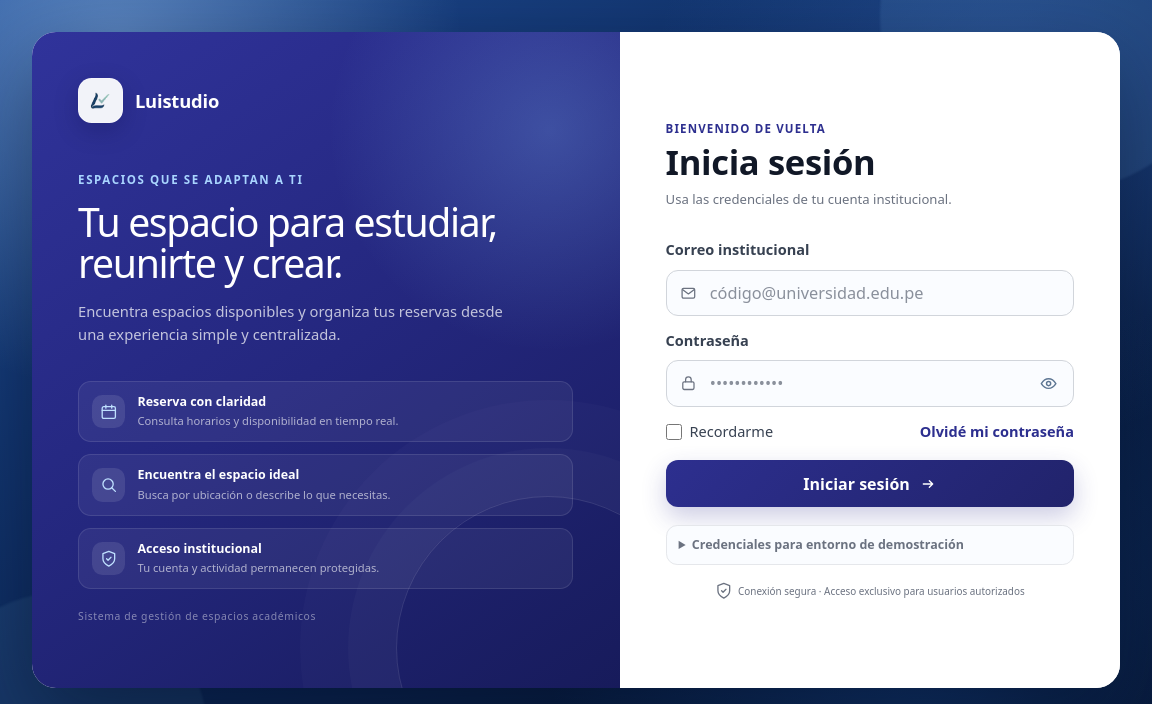
Test: Vista crítica: Vista administrativa principal (Reservas registradas) › renderiza el listado de reservas administrativo con datos simulados vía HTTP mockeado
Type "20233916@aloe.ulima.edu.pe" into the field labelled "Correo institucional" at (870, 293), box [666,270,1074,316]
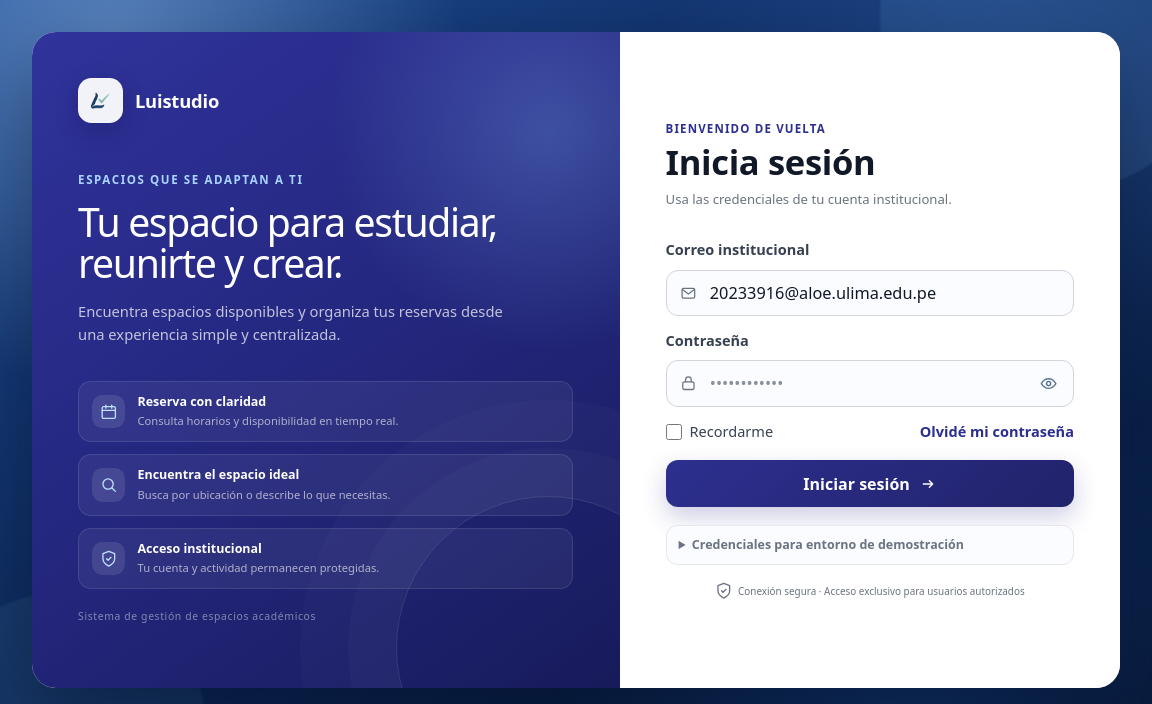
Type "Admin123!" into the password field labelled "Contraseña" at (870, 384), box [666,360,1074,407]
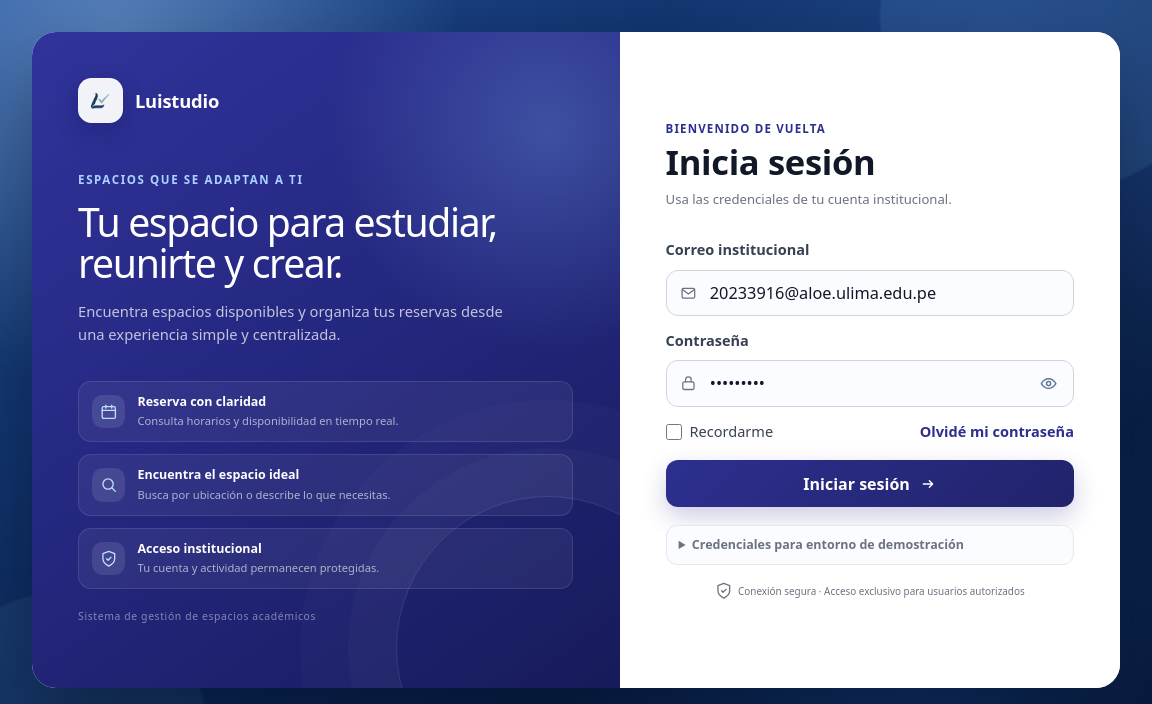
Click the button "Iniciar sesión" at (870, 484), box [666,460,1074,507]
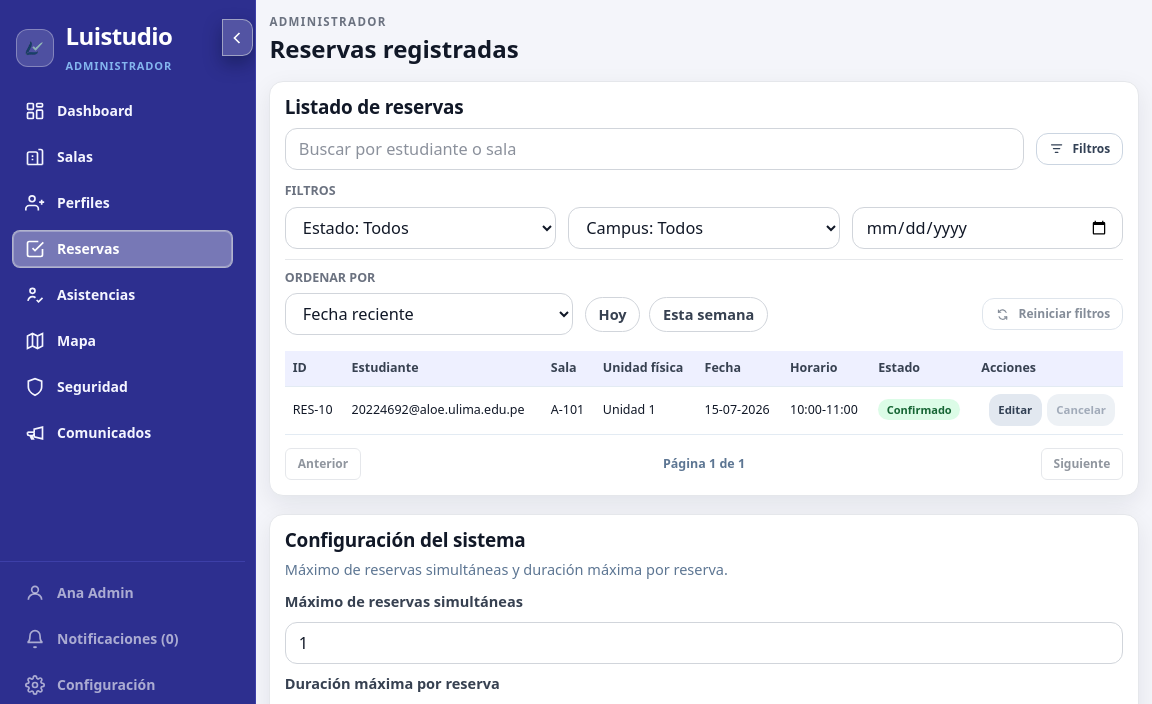
Check: the heading "Reservas registradas" is shown, box [269,33,519,65]
Check: the text "20224692@aloe.ulima.edu.pe" is shown, box [344,386,543,434]
